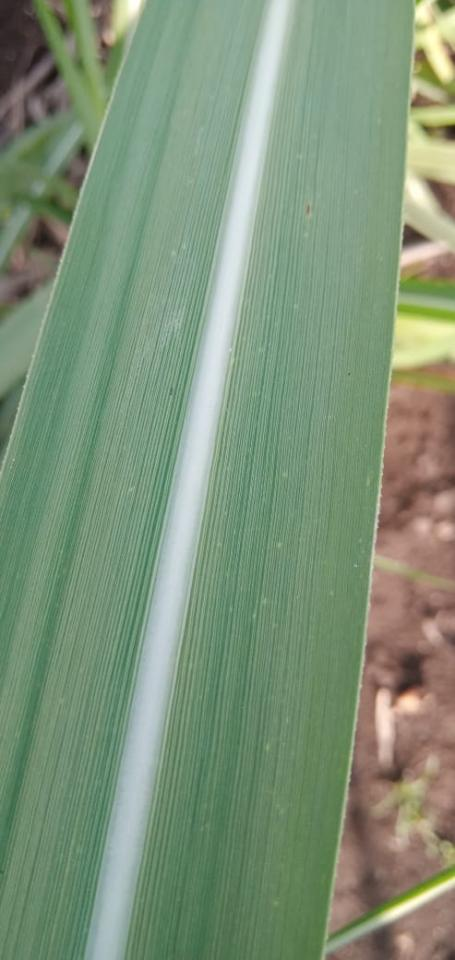Healthy: (1, 0, 411, 959)
